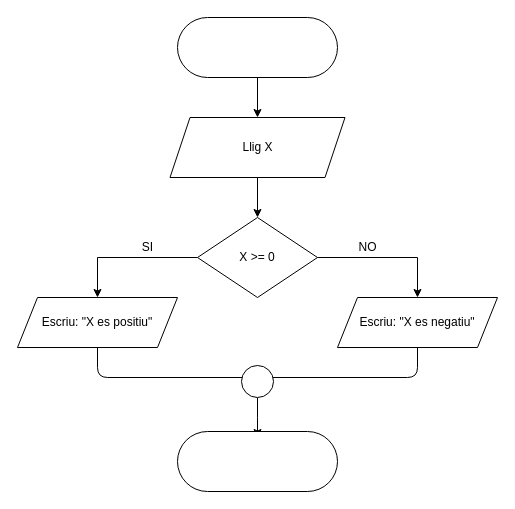
This 515x509 diagram has some shape labels left out. Here are the shapes that lost their labels. From the top down, the centre of each, then its label:
pixel 257 47: Inici
pixel 257 461: FI
